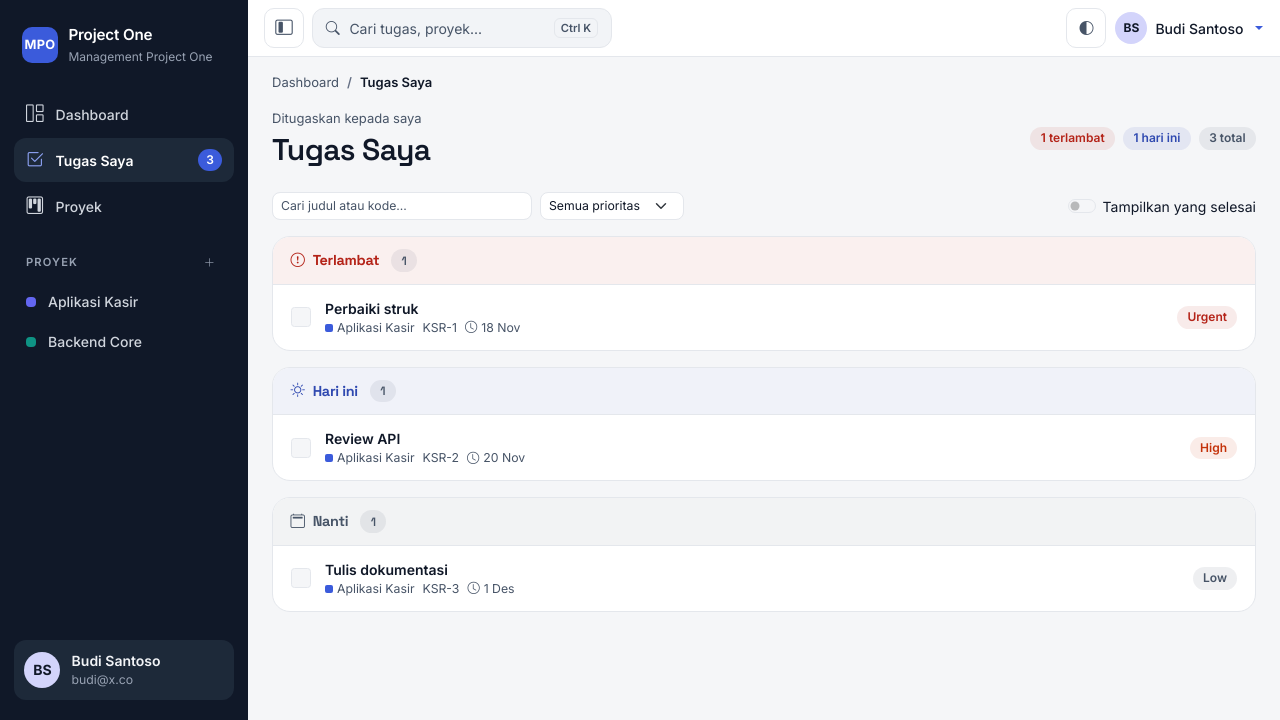
Test case: Tugas Saya › centang menandai selesai (PATCH status=done) dan memuat ulang daftar serta jumlah di sidebar
The image size is (1280, 720).
Click the checkbox named "Tandai selesai: Perbaiki struk" at (301, 317), box [291,307,311,327]
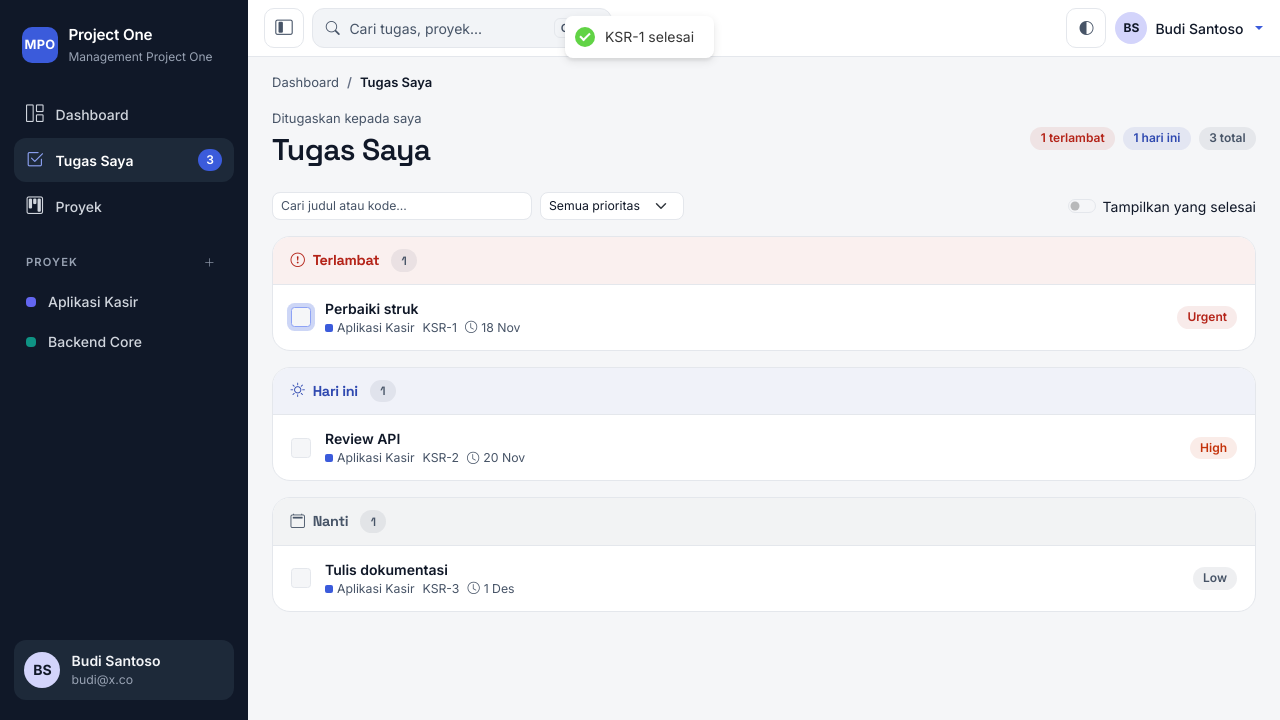
Now the text "KSR-1 selesai" is shown, box [606,28,695,46]
